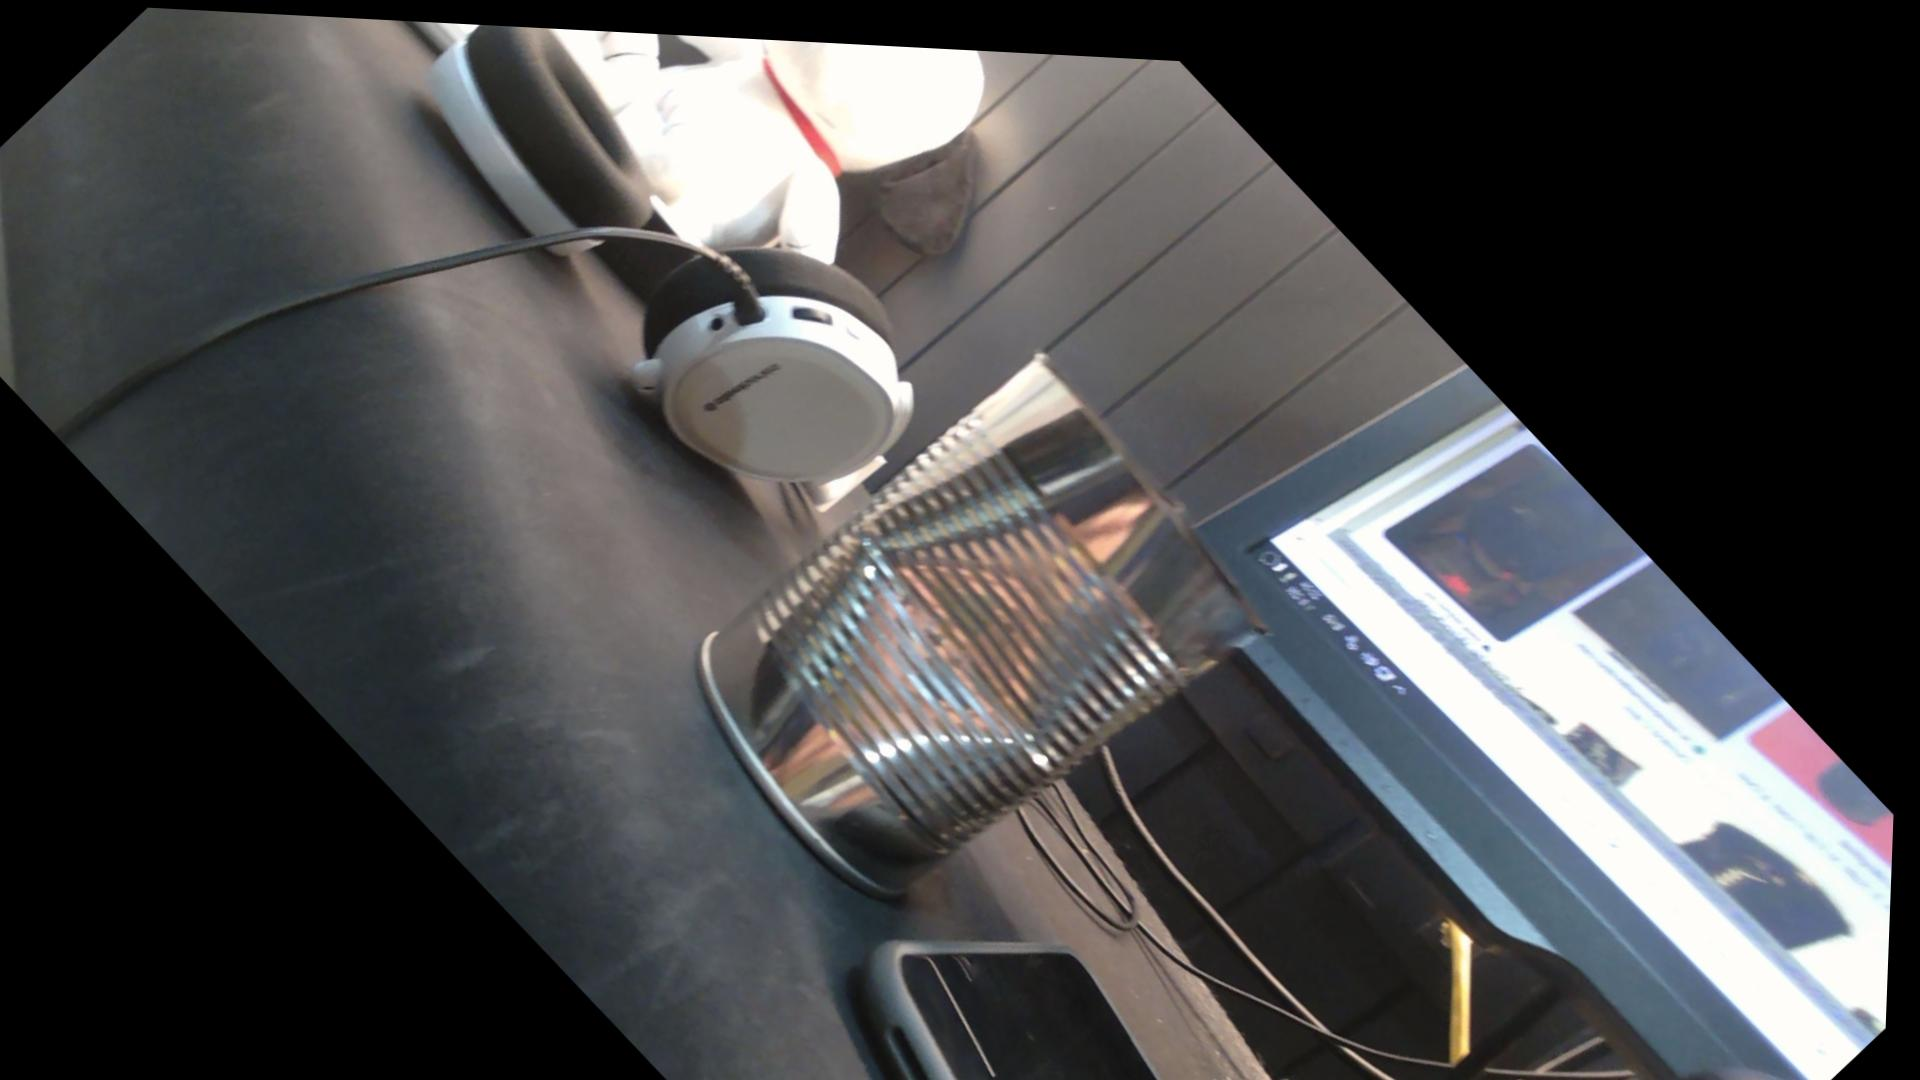metal: (702, 357, 1246, 927)
